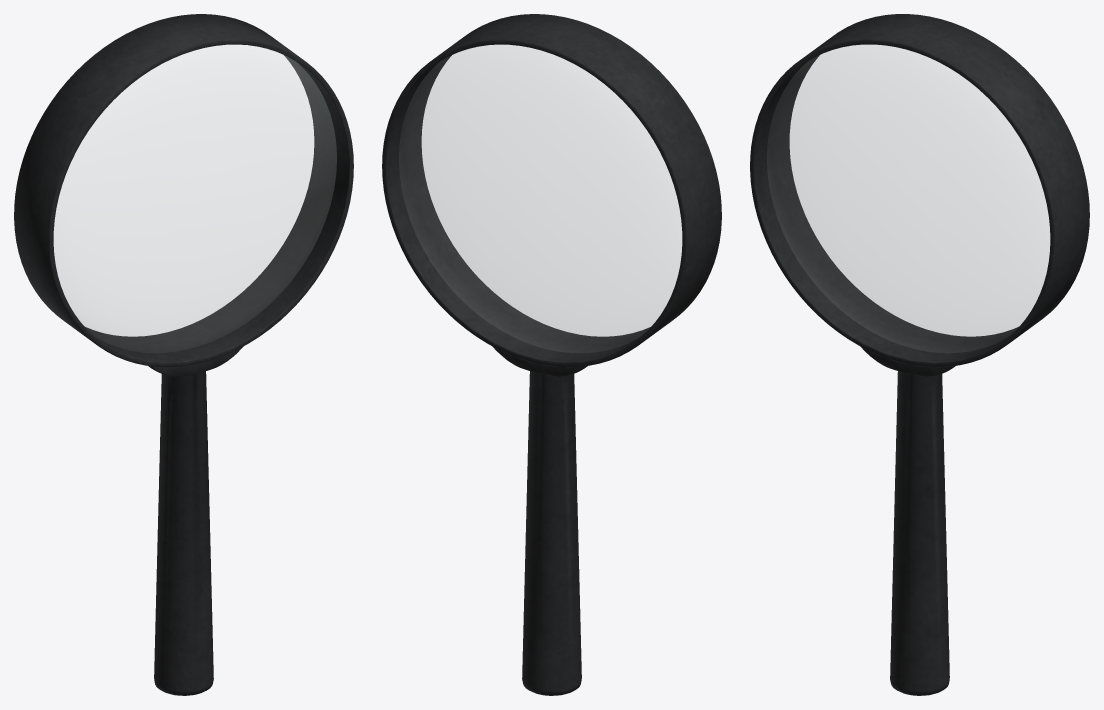
Rendered from magnifying_glass_01.gltf.
3 renders of one model, left to right at view 1: azimuth 30°, elevation 25°; view 2: azimuth 150°, elevation 25°; view 3: azimuth 330°, elevation 25°, orthographic.
Visible parts, largest first — view 1: magnifying_glass_01; view 2: magnifying_glass_01; view 3: magnifying_glass_01.
Part boxes in pixels (x1,y1,x2,y2): magnifying_glass_01: [14, 14, 353, 695]; magnifying_glass_01: [382, 14, 721, 695]; magnifying_glass_01: [750, 14, 1089, 695].
Bounding box in the file's own units: 0.1321 × 0.2716 × 0.0267.
Materials: 2 (1 with a texture image).
